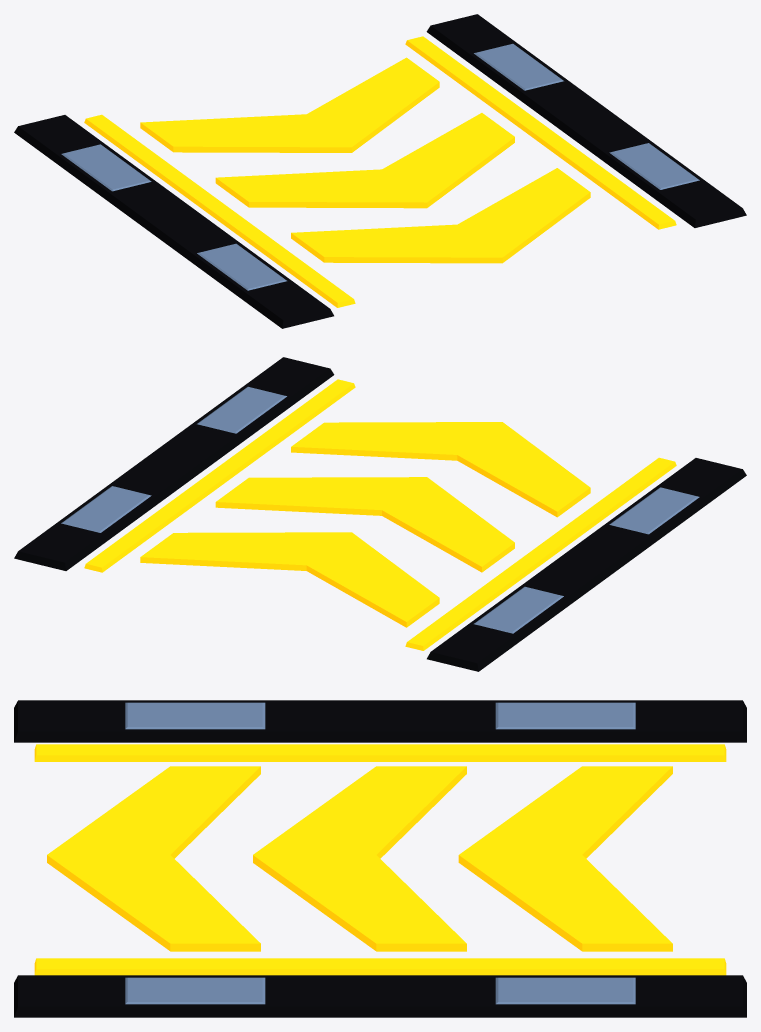
Rendered from SM_ArenaTile_Overlay_05_BoostRunway.glb.
3 views of the same model, one above another, from view 1: azimuth 30°, elevation 25°; view 2: azimuth 150°, elevation 25°; view 3: azimuth 270°, elevation 25° (orthographic). The views are drawn at different scales.
Visible parts, largest first — view 1: Part_EMI_Kinetic, Part_MAT_DarkNeutral, Part_MAT_LightTrim; view 2: Part_EMI_Kinetic, Part_MAT_DarkNeutral, Part_MAT_LightTrim; view 3: Part_EMI_Kinetic, Part_MAT_DarkNeutral, Part_MAT_LightTrim.
Part boxes in pixels (left/top/right/bottom): Part_EMI_Kinetic: left=84, top=36, right=676, bottom=307; Part_MAT_DarkNeutral: left=14, top=14, right=746, bottom=328; Part_MAT_LightTrim: left=61, top=43, right=699, bottom=290; Part_EMI_Kinetic: left=84, top=379, right=676, bottom=650; Part_MAT_DarkNeutral: left=14, top=357, right=746, bottom=671; Part_MAT_LightTrim: left=61, top=386, right=699, bottom=633; Part_EMI_Kinetic: left=34, top=744, right=726, bottom=975; Part_MAT_DarkNeutral: left=14, top=700, right=746, bottom=1017; Part_MAT_LightTrim: left=125, top=702, right=635, bottom=1004.
Size of the model in its own units: 8.9 by 0.14 by 8.9.
3 materials, 3 textured.
